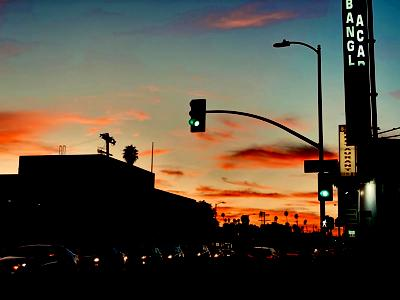International Road Signal Light: (183, 95, 209, 137)
